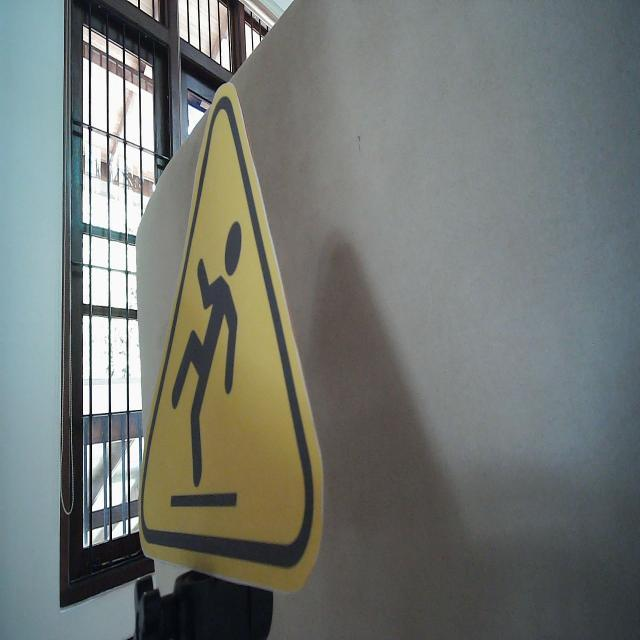slippery_sign: (134, 80, 328, 601)
